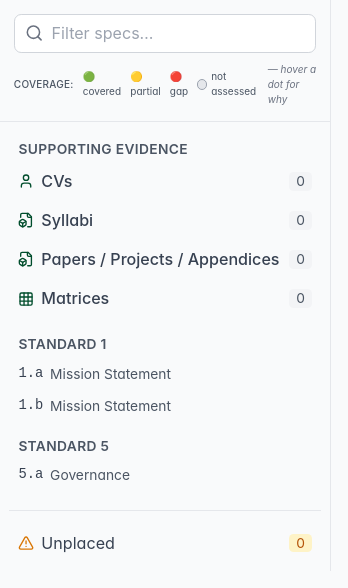
<SpecRail /> › filter input narrows visible specs
The image size is (348, 588).
In the search field named "filter specifications": (165, 33) x1=14 y1=14 x2=316 y2=53, type "Governance"
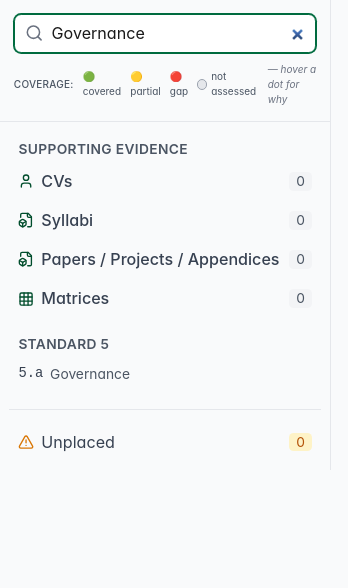
Expected: the tab "5.a Governance" is shown, x1=9 y1=358 x2=321 y2=390
Now the tab "1.a" is gone
Now the tab "1.b" is gone
